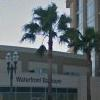Palm tree: (26, 3, 68, 100)
